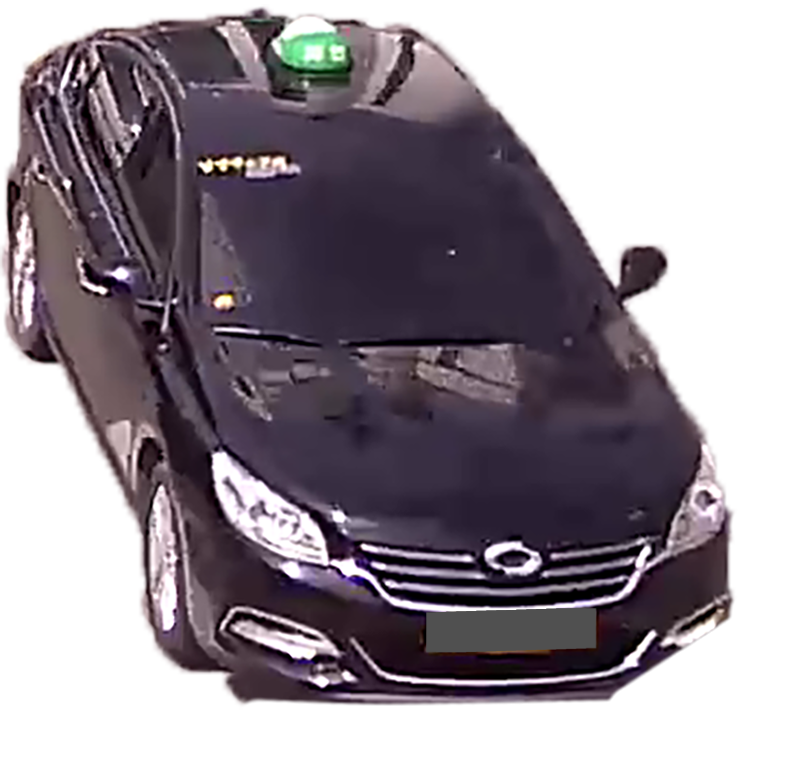P1_: (597, 609, 612, 622)
bbox: (426, 609, 595, 651)
